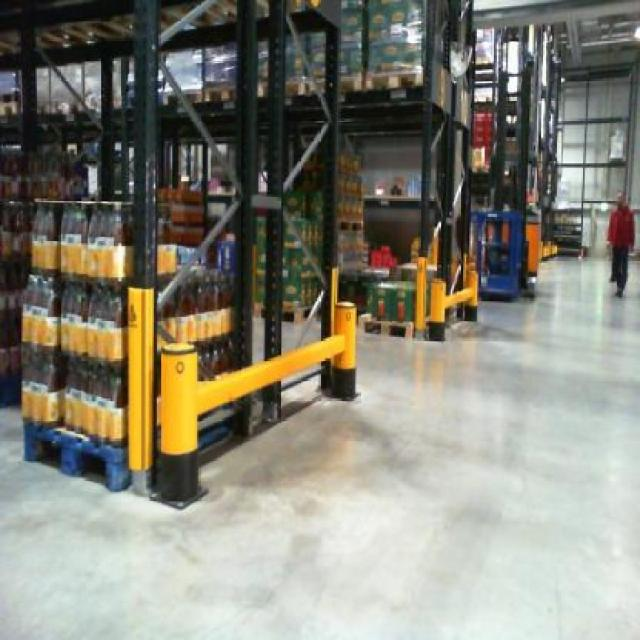ground: (0, 255, 638, 638)
pallet: (16, 412, 136, 498), (338, 62, 425, 93), (358, 308, 416, 344), (180, 81, 238, 108), (278, 297, 317, 326), (335, 216, 365, 233), (252, 300, 264, 319)
